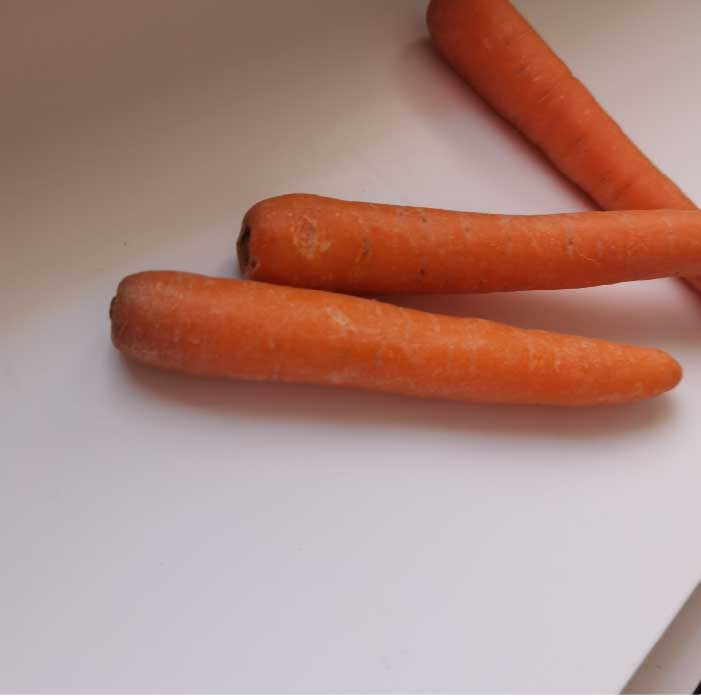Karotte: (110, 269, 683, 406), (236, 193, 701, 293)
